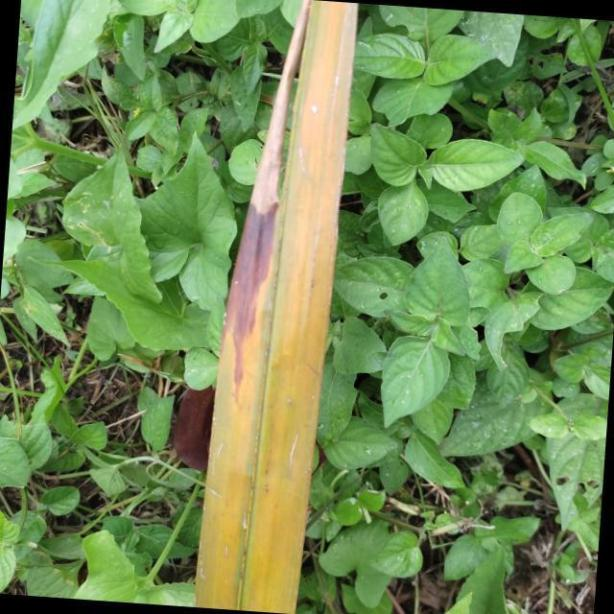Megnesium: (195, 0, 358, 614)
